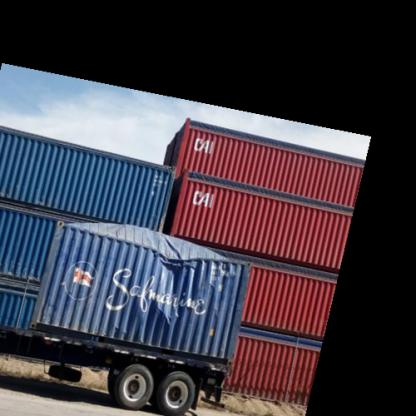Damage: (56, 211, 234, 328)
